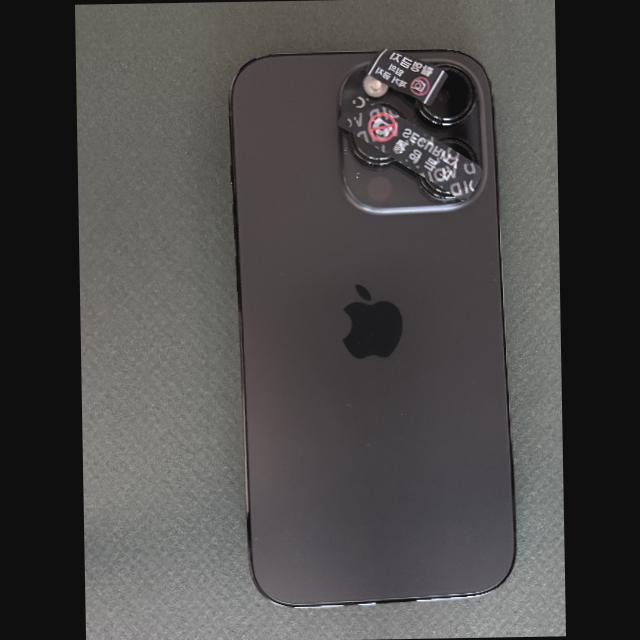lens: (421, 69, 472, 119), (354, 137, 389, 159), (443, 143, 473, 162)
phone: (228, 49, 516, 608)
sticker: (338, 94, 483, 200), (365, 48, 447, 106)
